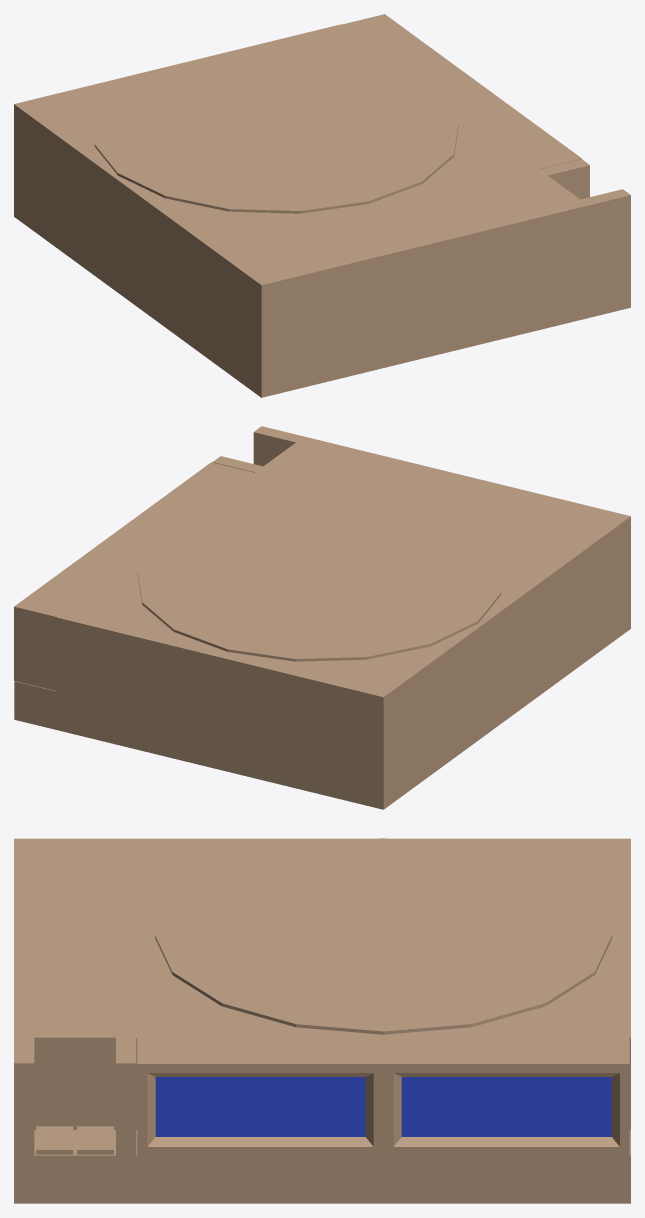
File: too_many_games.glb
3 views of the same model, one above another, from view 1: azimuth 30°, elevation 25°; view 2: azimuth 150°, elevation 25°; view 3: azimuth 270°, elevation 25° (orthographic). The views are drawn at different scales.
Visible parts, largest first — view 1: Cube.001, Cylinder, Cube; view 2: Cube.001, Cylinder, Cube; view 3: Cube.001, Cylinder, Cube.
Part boxes in pixels (x1,y1,x2,y2): Cube.001: [14, 24, 630, 397]; Cylinder: [94, 57, 458, 213]; Cube: [342, 14, 581, 169]; Cube.001: [14, 426, 630, 809]; Cylinder: [137, 505, 501, 661]; Cube: [14, 462, 254, 690]; Cube.001: [14, 838, 630, 1203]; Cylinder: [155, 838, 612, 1034]; Cube: [137, 1037, 629, 1156].
Bounding box in the file's own units: 10.46 × 3.11 × 12.11.
